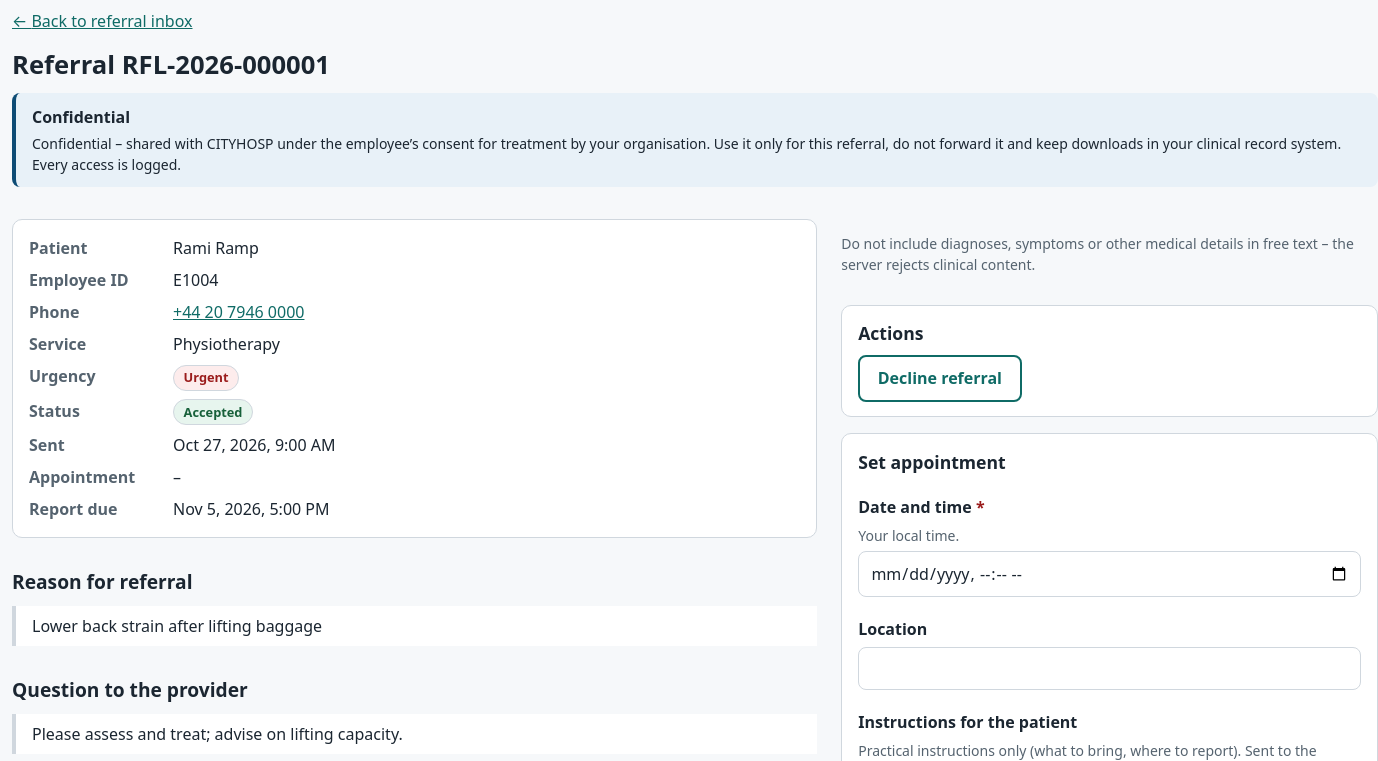
Test: referral detail › highlights the field named by 422 clinical_content_not_allowed on the appointment
Type "2099-11-03T09:30" into the field labelled "Date and time *" at [1110, 574], box [858,551,1361,597]
(page scrolled)
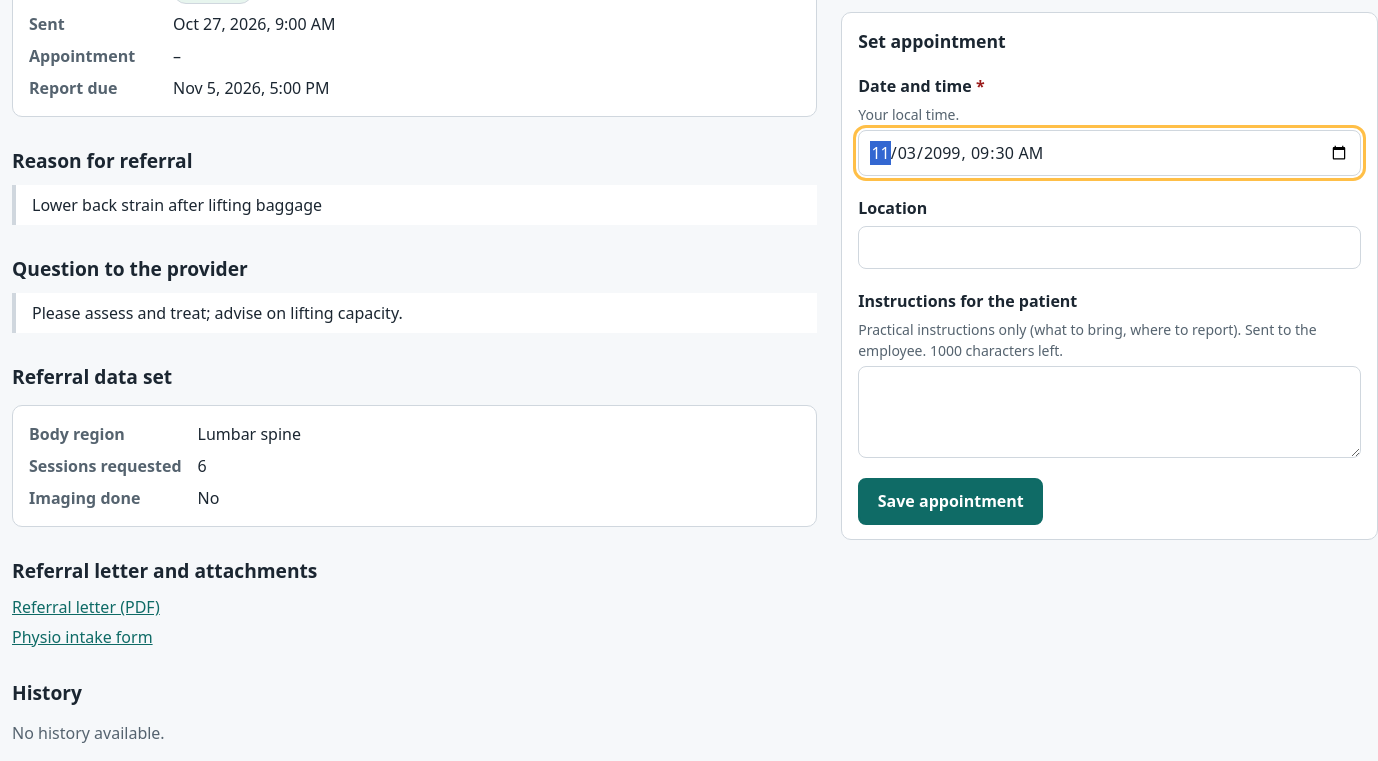
Type "Bring your MRI for the herniated disc" into the text box labelled "Instructions for the patient" at [1110, 412], box [858,366,1361,458]
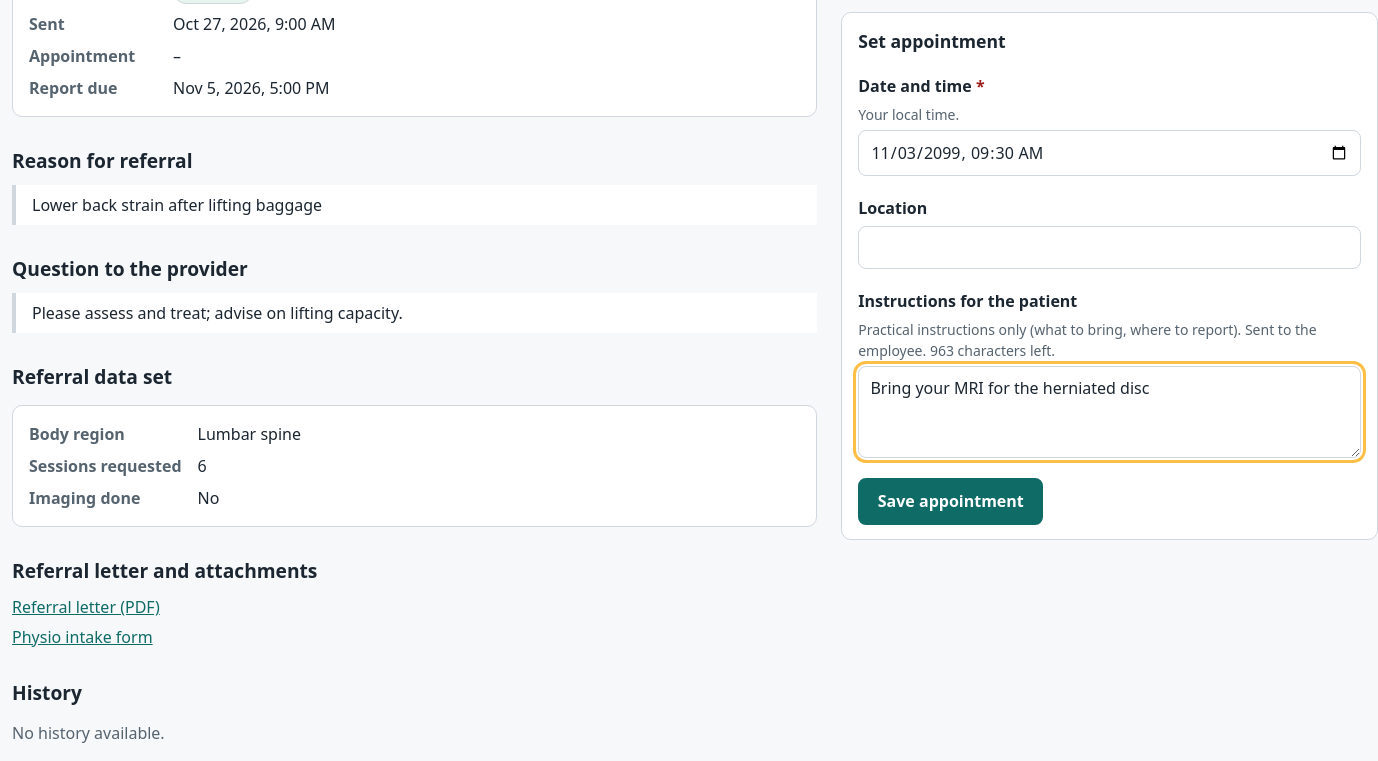
Click the button "Save appointment" at [951, 502], box [858,478,1043,525]
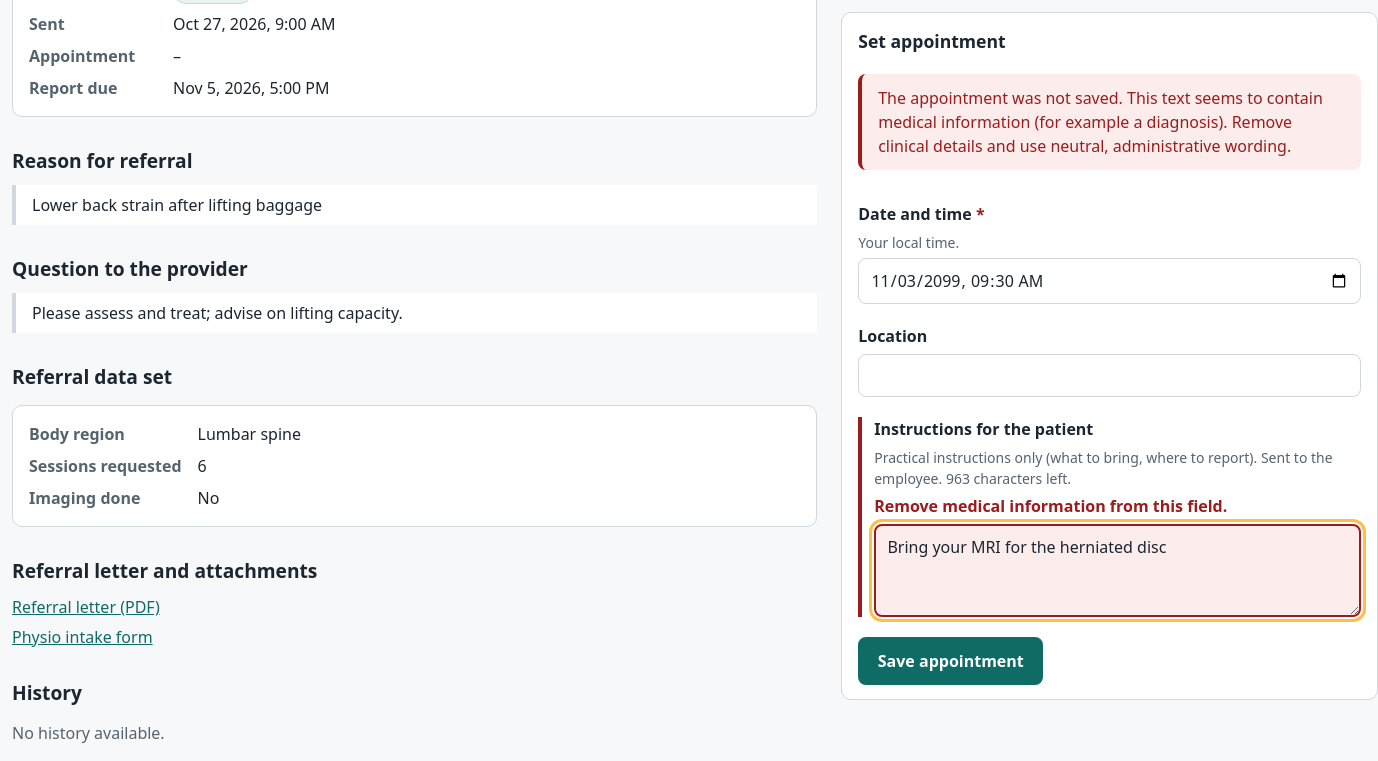
Expected: the text "Remove medical information from this field." is shown, [874,495,1227,517]
